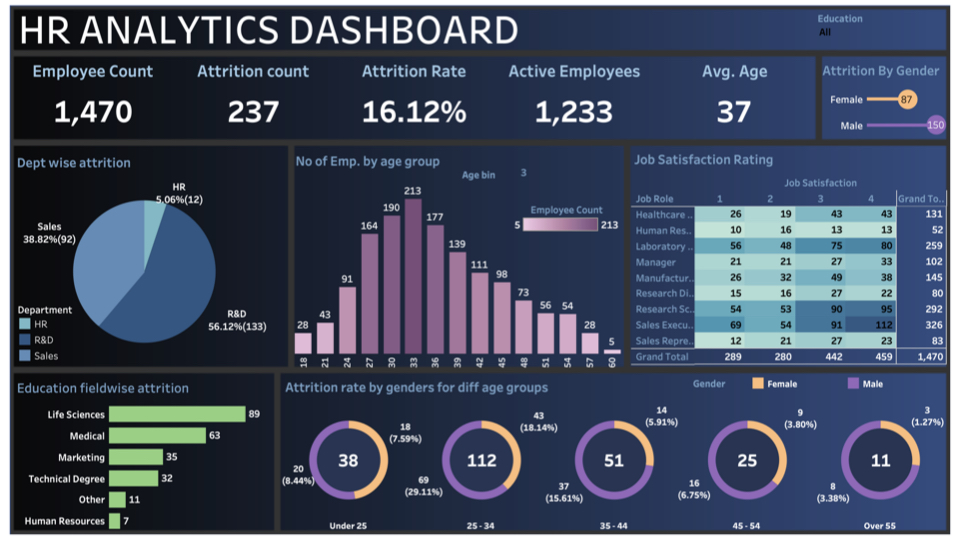

Layout of this report page (visuals, bound fields, positions):
{"tool":"tableau","page":{"name":"HR Analytics Dashboard","canvas":[1229,691],"ordinal":0},"visuals":[{"type":"image","param":"Image/HR background.pptx.png","box":[8,8,1213,675]},{"type":"text","box":[30,16,699,49]},{"type":"filter","title":"Dept wise attrition","param":"[federated.19jzgd81vkkqyy1778iif0yvk3n8].[none:Education:nk]","box":[1040,19,160,44]},{"type":"worksheet","title":"AAttrition by Gender","mark":"Automatic","rows":["Gender"],"cols":["Calculation_416723738631716864","Calculation_416723738631716864"],"box":[1042,77,165,102]},{"type":"worksheet","title":"KPI","mark":"Automatic","box":[26,78,1011,101]},{"type":"worksheet","title":"Job Satisfaction Rating","mark":"Square","rows":["Job Role"],"cols":["Job Satisfaction"],"box":[805,189,399,276]},{"type":"worksheet","title":"No of Emp. by age group","mark":"Automatic","rows":["Employee Count"],"cols":["Age (bin)"],"box":[378,191,417,279]},{"type":"worksheet","title":"Dept wise attrition","mark":"Pie","box":[27,193,329,272]},{"type":"parameter","param":"[Parameters].[Parameter 1]","box":[592,213.8,207,23.1]},{"type":"legend","title":"No of Emp. by age group","param":"[federated.19jzgd81vkkqyy1778iif0yvk3n8].[sum:Employee Count:qk]","box":[654,256.6,140,65]},{"type":"legend","title":"Dept wise attrition","param":"[federated.19jzgd81vkkqyy1778iif0yvk3n8].[none:Department:nk]","box":[31,385,87,81]},{"type":"worksheet","title":"Attrition rate by genders for diff age groups","mark":"Pie","rows":["Calculation_416723738658668548","Calculation_416723738658668548"],"cols":["CF_age band"],"box":[365,476,838,201]},{"type":"worksheet","title":"Education fieldwise attrition","mark":"Automatic","rows":["Education Field"],"cols":["Calculation_416723738631716864"],"box":[27,477,325,198]},{"type":"legend","title":"Attrition rate by genders for diff age groups","param":"[federated.19jzgd81vkkqyy1778iif0yvk3n8].[none:Gender:nk]","box":[883,478,316,25]}]}

Visuals, with their boxes in screenshot pixels (x1, y1, x2, y2), scaled from the page's 1229x691 canvas onto the 960x540 screenshot:
image: bbox=(6, 6, 954, 534)
text: bbox=(23, 13, 569, 51)
"Dept wise attrition" filter: bbox=(812, 15, 937, 49)
"AAttrition by Gender" worksheet: bbox=(814, 60, 943, 140)
"KPI" worksheet: bbox=(20, 61, 810, 140)
"Job Satisfaction Rating" worksheet (Square marks): bbox=(629, 148, 940, 363)
"No of Emp. by age group" worksheet: bbox=(295, 149, 621, 367)
"Dept wise attrition" worksheet (Pie marks): bbox=(21, 151, 278, 363)
parameter: bbox=(462, 167, 624, 185)
"No of Emp. by age group" legend: bbox=(511, 201, 620, 251)
"Dept wise attrition" legend: bbox=(24, 301, 92, 364)
"Attrition rate by genders for diff age groups" worksheet (Pie marks): bbox=(285, 372, 940, 529)
"Education fieldwise attrition" worksheet: bbox=(21, 373, 275, 527)
"Attrition rate by genders for diff age groups" legend: bbox=(690, 374, 937, 393)
